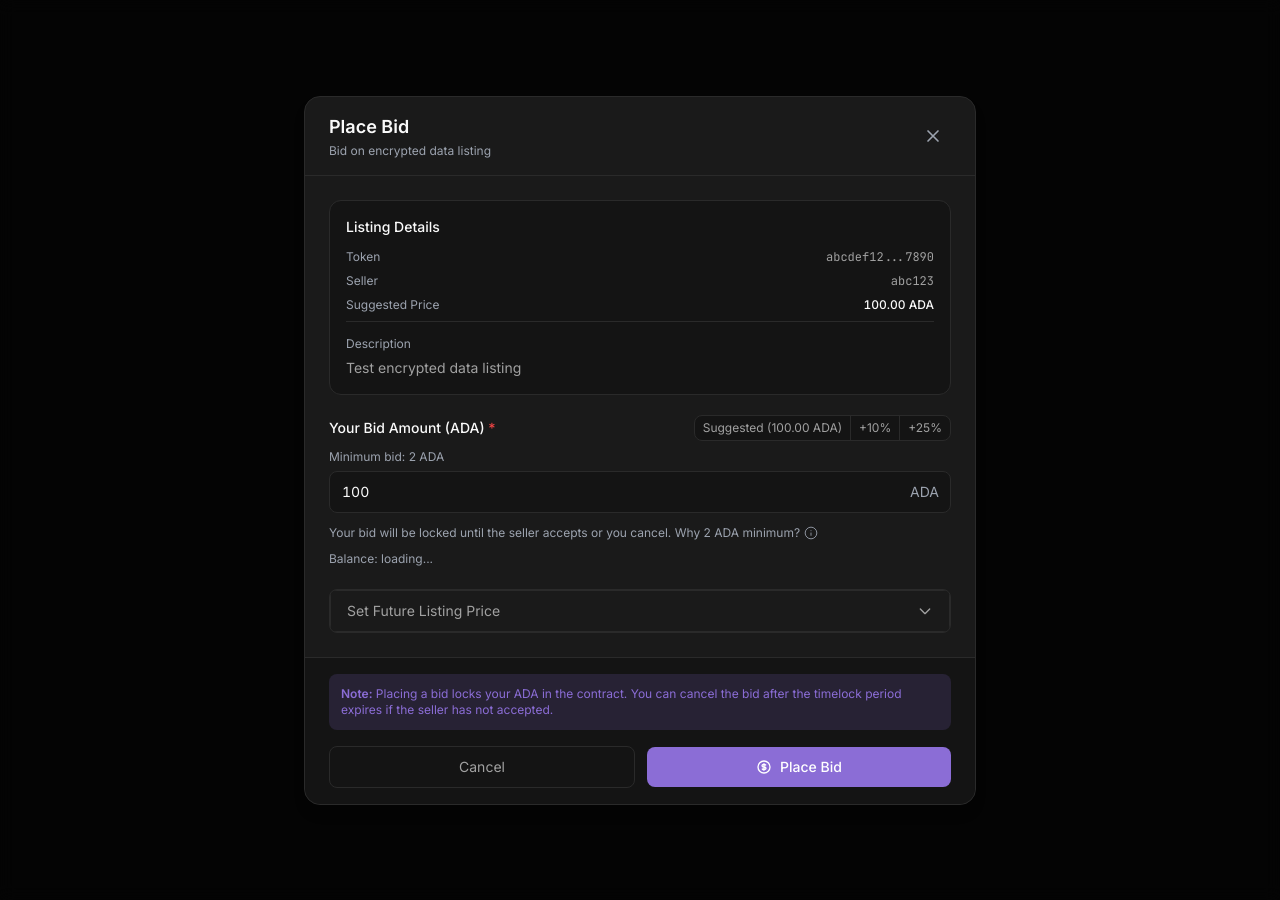
Test: PlaceBidModal › validates bid amount below minimum (2 ADA)
Replace the text in the field labelled "Your Bid Amount (ADA) *" with "1": (640, 492) [329, 470, 951, 512]
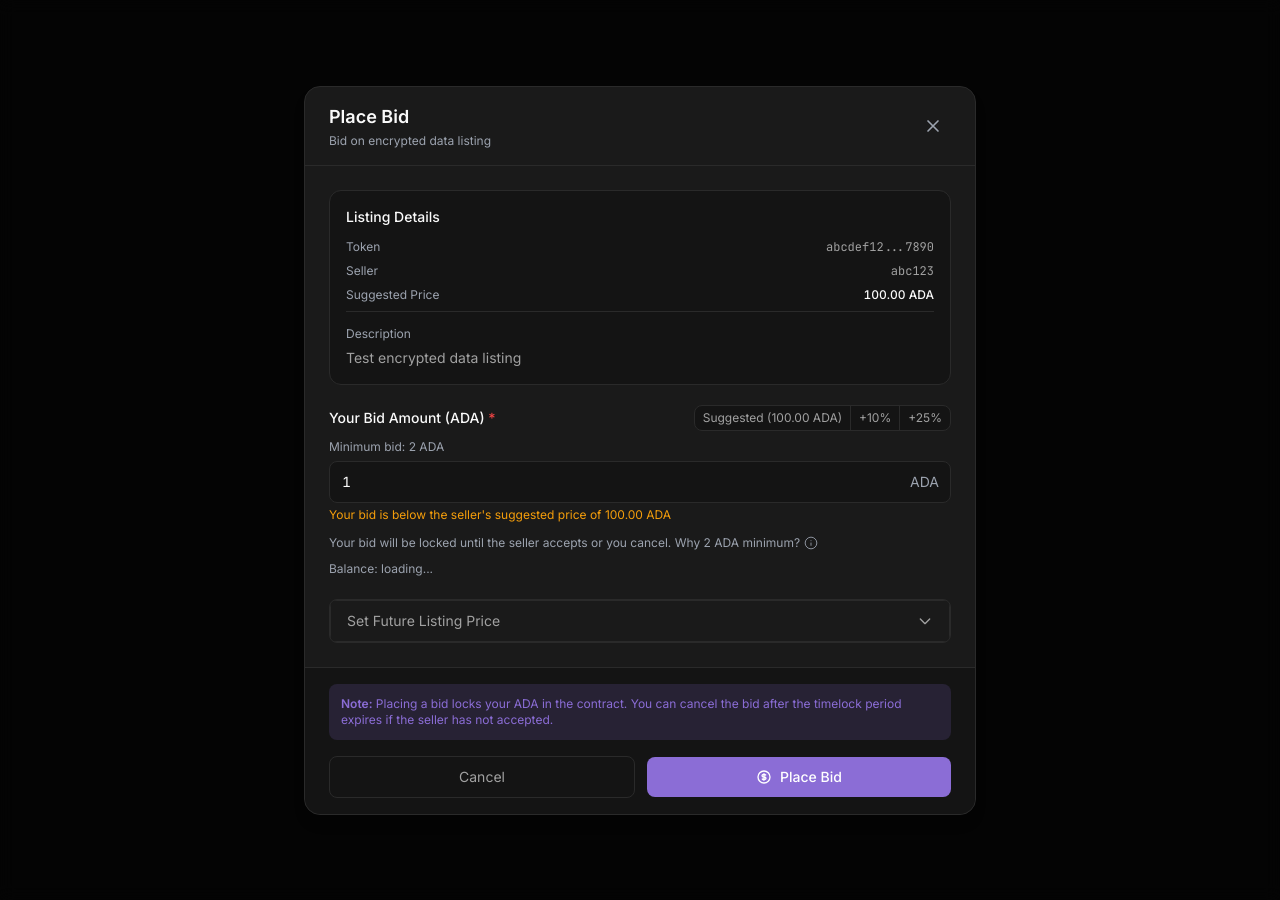
Click the button "Place Bid": click(799, 776) [647, 756, 951, 796]
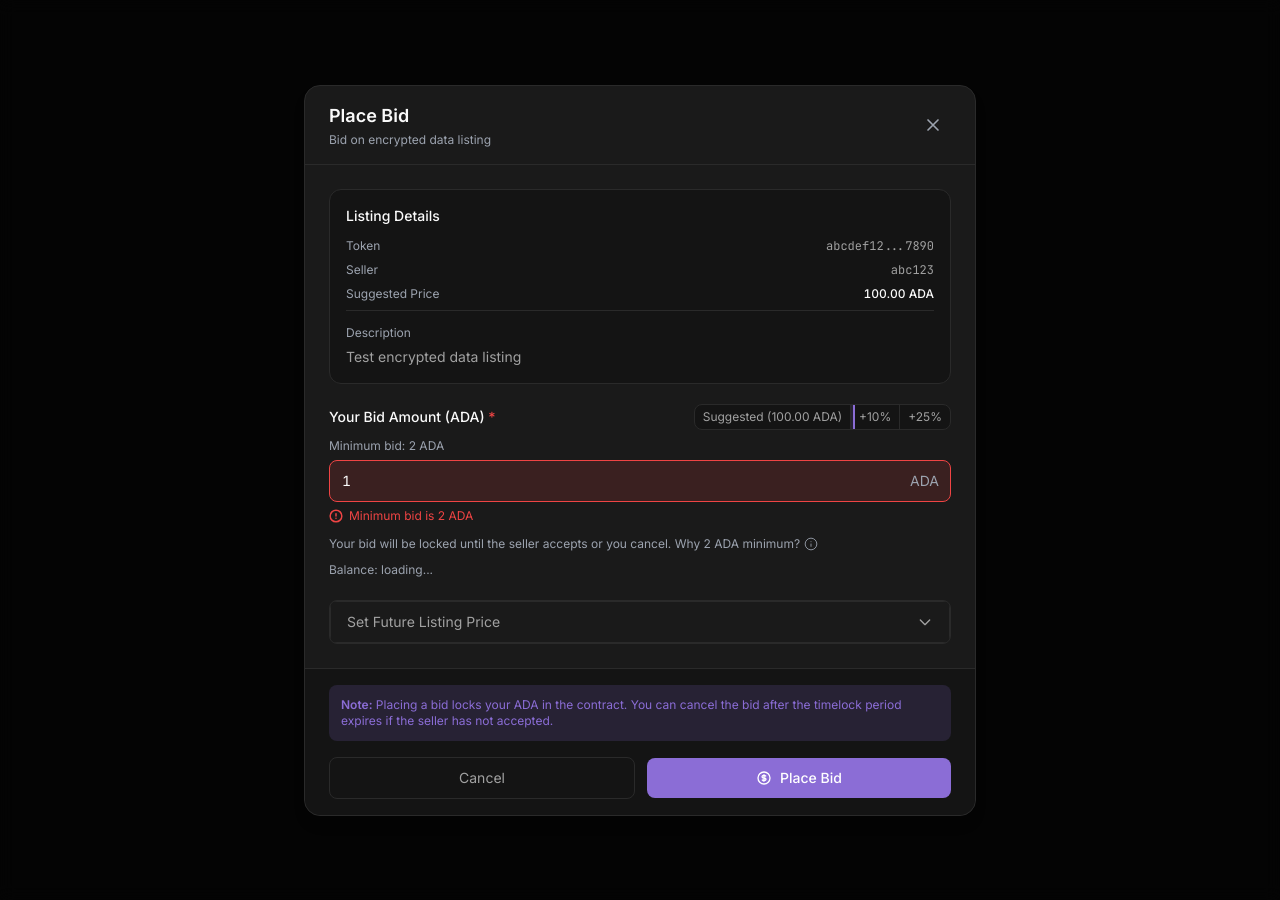
Expected: the text "Minimum bid is 2 ADA" is shown, [349, 508, 473, 522]
